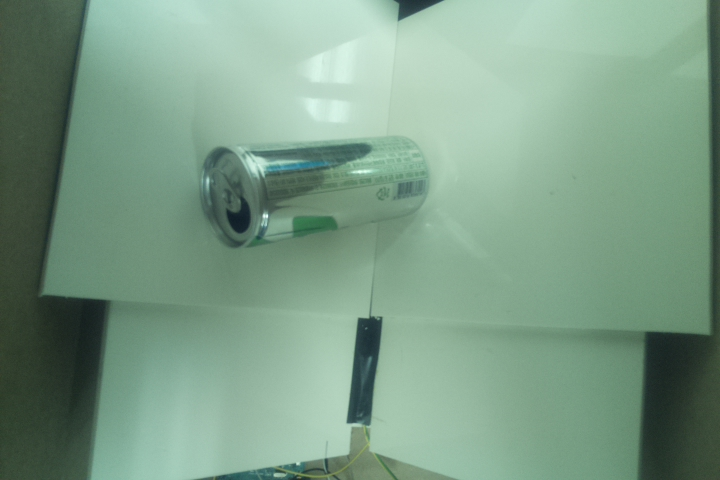can: (198, 133, 432, 250)
